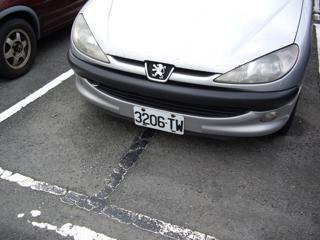plate: (132, 102, 186, 137)
